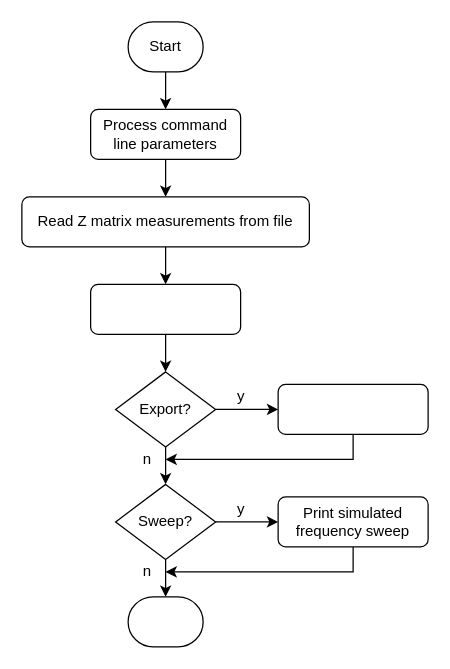
This 450x669 diagram has some shape labels left out. The centre of each missing label's shape, as x and y in pixels:
Export model to requested file: the point at 352,408
Generate model by fitting: the point at 165,308
Stop: the point at 165,621
